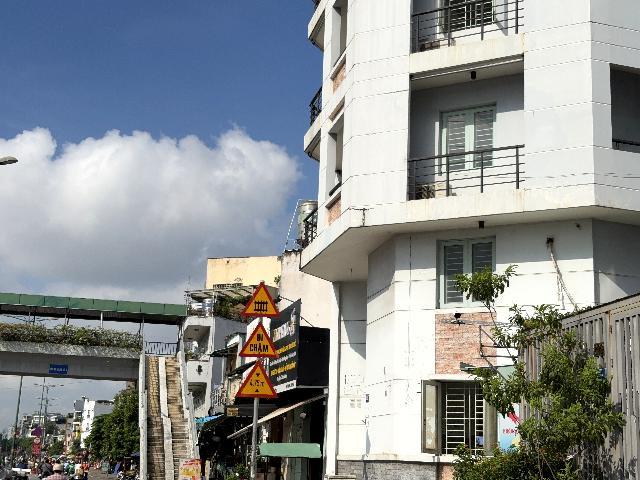chieu-cao-tinh-khong-thuc-te: (236, 359, 278, 399)
di-cham: (239, 321, 279, 358)
noi-giao-nhau-voi-duong-sat-co-rao-chan: (240, 281, 281, 318)
